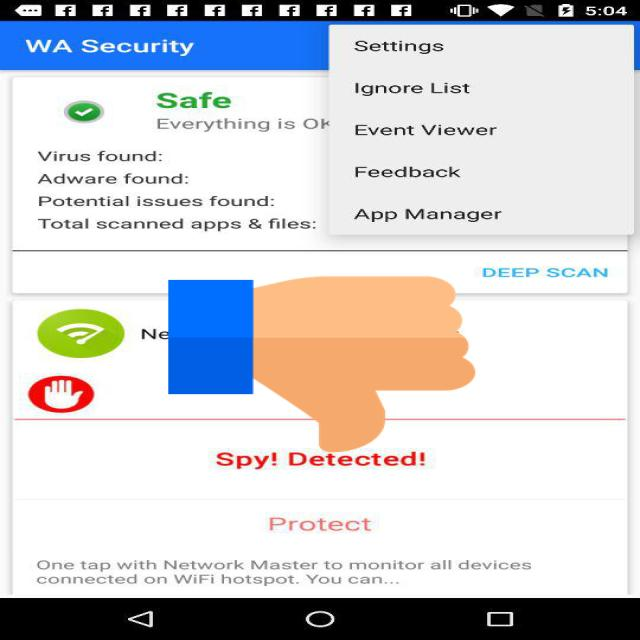obstruction: (168, 272, 476, 457)
